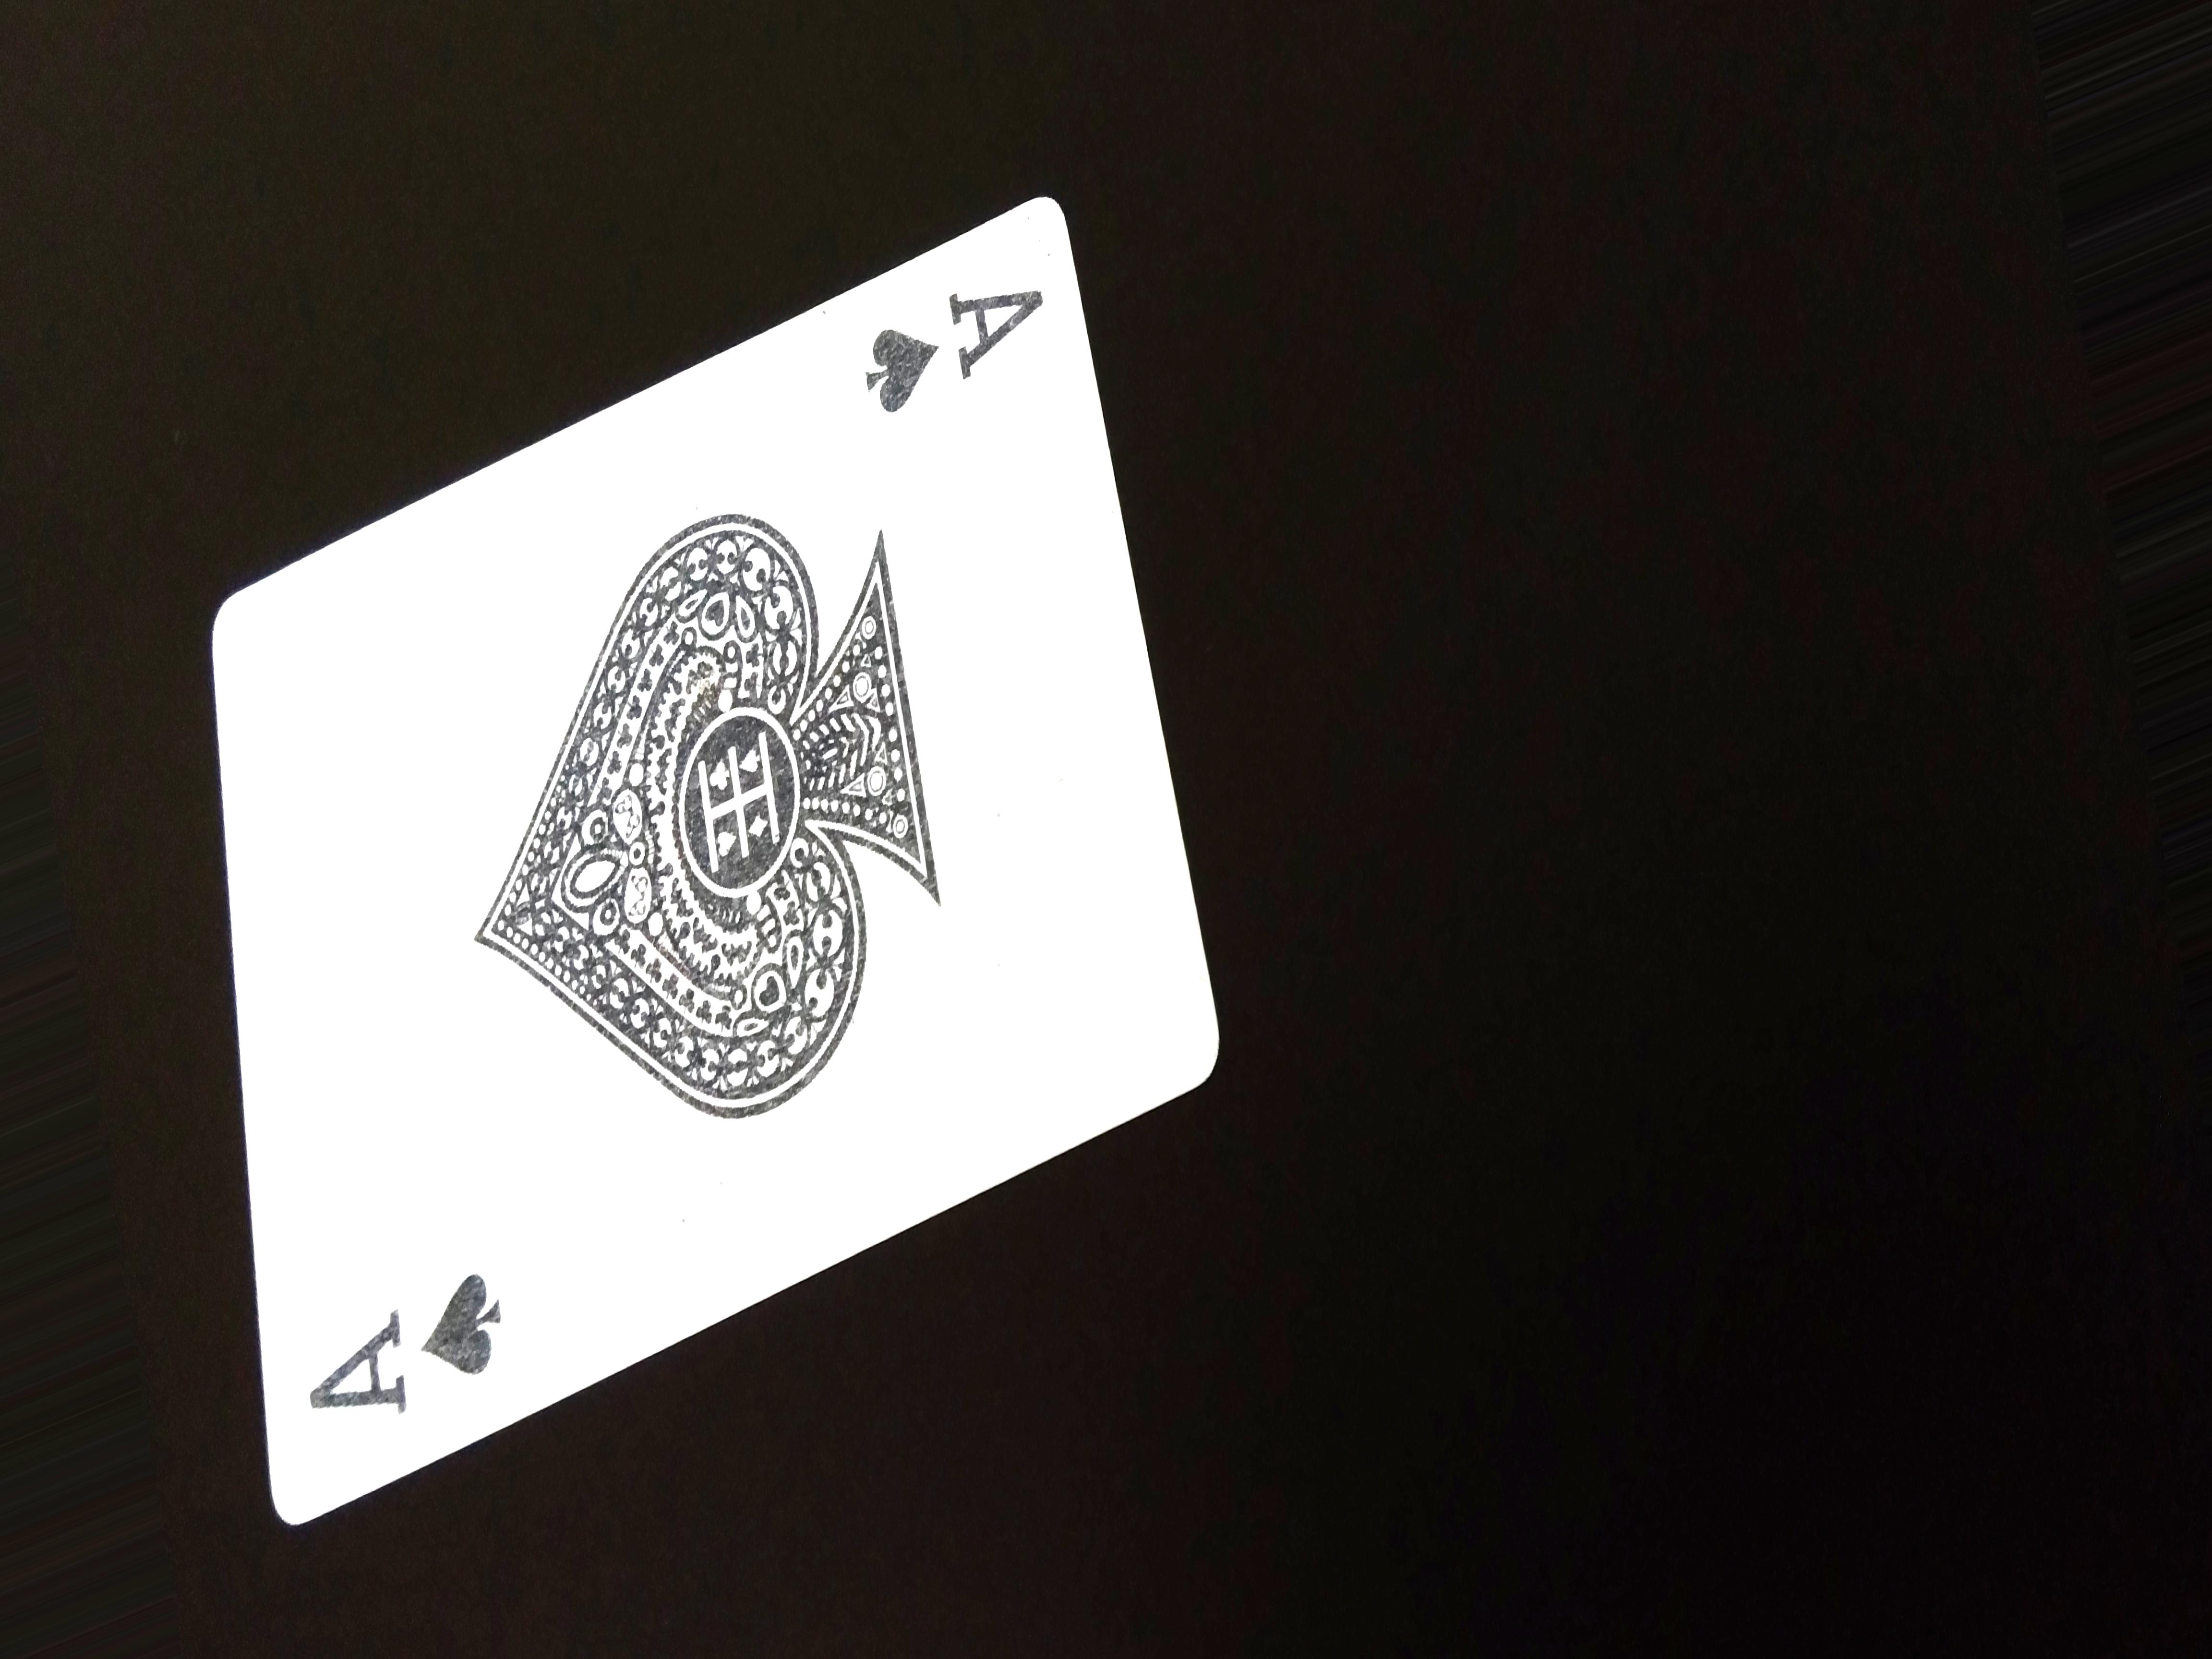AS: (860, 249, 1064, 432)
